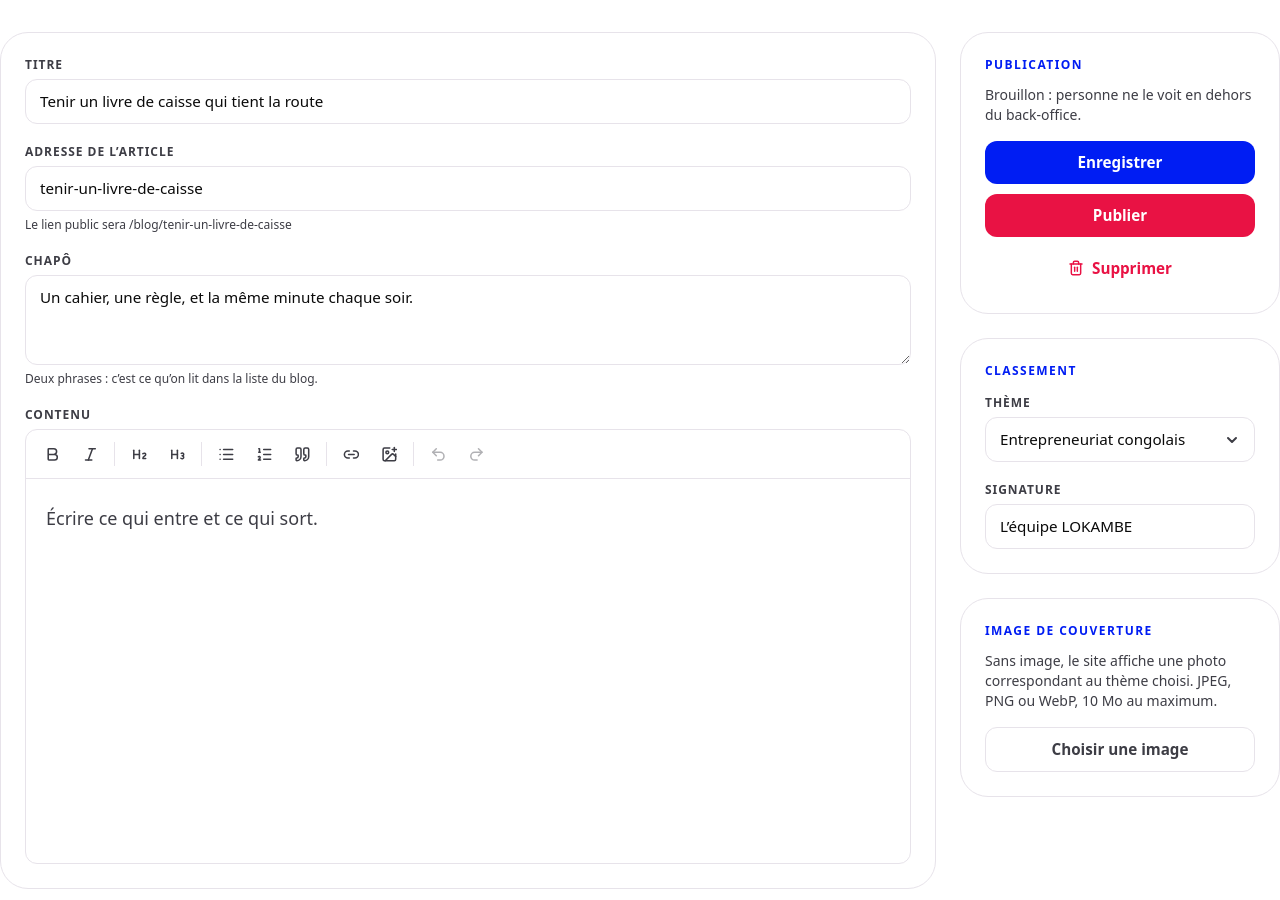
Test case: ArticleForm › publie un brouillon existant et renvoie sur sa fiche
Click the button "Publier" at (1120, 215), box x1=985 y1=194 x2=1255 y2=237
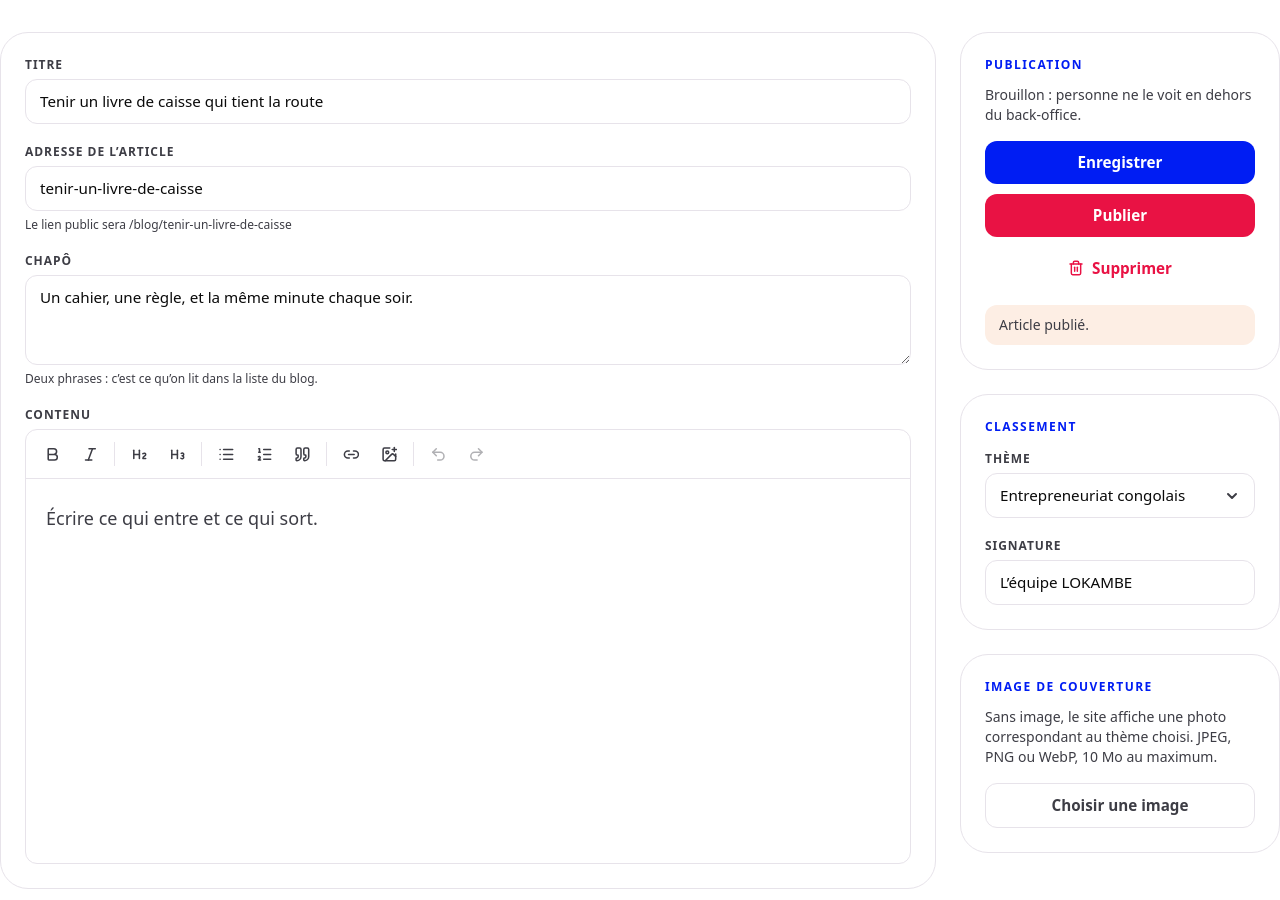
Expected: the message reads "Article publié.", x1=999 y1=315 x2=1089 y2=334
